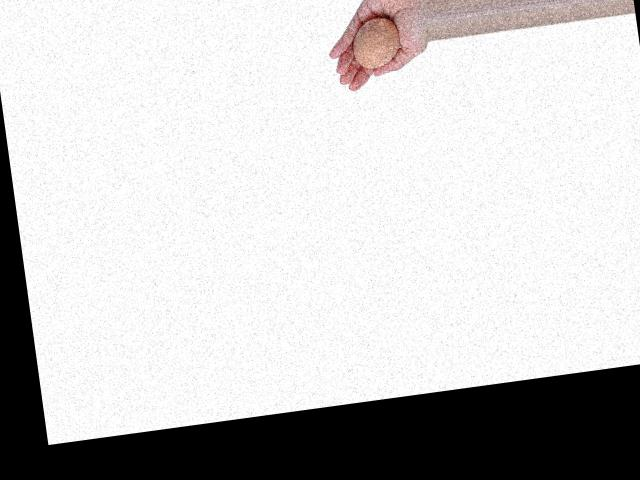egg: (349, 15, 402, 70)
